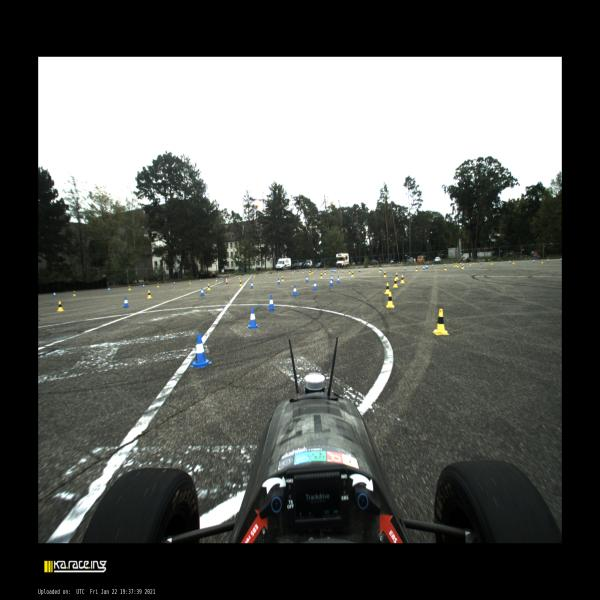blue_cone: (190, 334, 212, 369), (246, 308, 260, 328), (267, 295, 277, 311), (122, 297, 130, 308), (292, 285, 298, 296), (313, 282, 318, 290), (200, 288, 205, 296), (329, 278, 333, 286), (330, 274, 334, 281), (305, 276, 309, 282), (277, 278, 281, 284), (250, 282, 254, 288), (337, 276, 340, 283), (53, 291, 56, 297), (108, 286, 110, 292), (142, 284, 145, 288), (422, 265, 424, 270), (342, 269, 344, 273), (200, 278, 202, 282), (560, 257, 562, 261), (547, 258, 549, 262), (533, 258, 535, 262), (509, 260, 511, 264), (426, 265, 428, 269), (404, 266, 406, 270), (358, 268, 360, 272), (294, 270, 296, 274), (480, 261, 482, 264), (460, 262, 462, 265), (444, 263, 446, 266), (332, 269, 334, 272), (174, 281, 175, 285), (221, 276, 222, 280), (335, 269, 336, 273), (381, 267, 382, 271), (316, 270, 318, 272), (426, 264, 427, 268), (334, 269, 335, 272), (327, 269, 328, 272), (237, 275, 238, 278), (251, 274, 252, 277), (264, 273, 265, 276), (331, 269, 332, 272), (432, 264, 433, 266), (305, 270, 306, 272), (280, 272, 280, 274)
yellow_cone: (432, 308, 450, 336), (386, 292, 394, 308), (56, 301, 65, 312), (384, 282, 390, 294), (400, 274, 405, 284), (393, 278, 398, 288), (147, 290, 152, 298), (207, 283, 211, 291), (383, 271, 387, 278), (540, 258, 544, 264), (239, 280, 242, 287), (320, 273, 323, 279), (351, 272, 354, 278), (349, 268, 352, 274), (415, 266, 418, 272), (73, 290, 76, 296), (128, 285, 131, 291), (281, 276, 284, 282), (444, 266, 447, 271), (490, 260, 493, 265), (396, 273, 398, 280), (512, 260, 515, 264), (157, 282, 159, 288), (456, 262, 458, 268), (461, 265, 464, 269), (324, 270, 326, 275), (189, 279, 191, 284), (379, 268, 381, 272), (216, 278, 218, 282), (311, 270, 313, 274), (453, 262, 455, 266), (308, 270, 310, 274), (292, 271, 294, 274), (265, 273, 267, 276), (253, 274, 255, 277), (239, 275, 240, 279), (310, 271, 311, 275), (470, 262, 471, 266), (462, 264, 464, 266), (456, 263, 457, 266), (303, 270, 304, 273), (278, 272, 279, 274)
